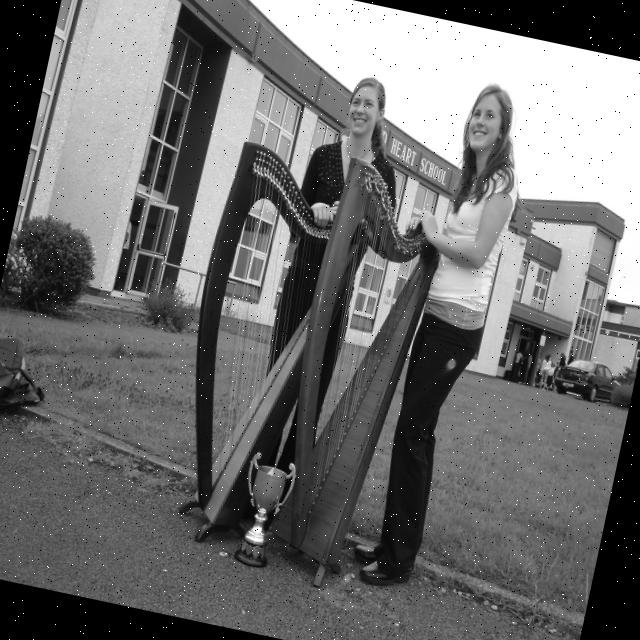harp: (150, 127, 391, 560), (254, 148, 461, 606)
